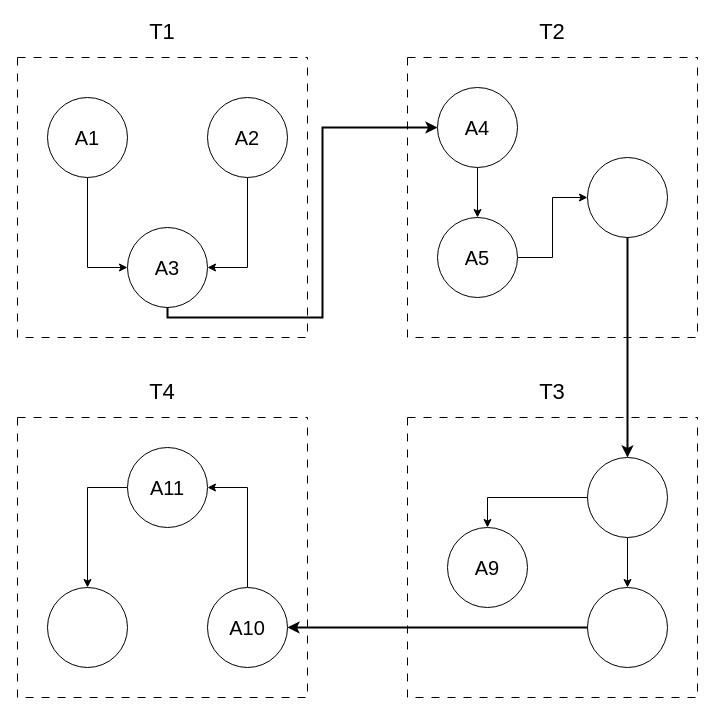
Some shapes in this 715 by 715 pixel diagram are drawn without their labels. The shapes that lost their labels are listed below. From the top down, each one's box as (x1, y1, x2, y2) in pixels, then its label:
(586, 156, 668, 238): A6
(586, 456, 668, 538): A7
(46, 586, 128, 668): A12
(586, 586, 668, 668): A8
